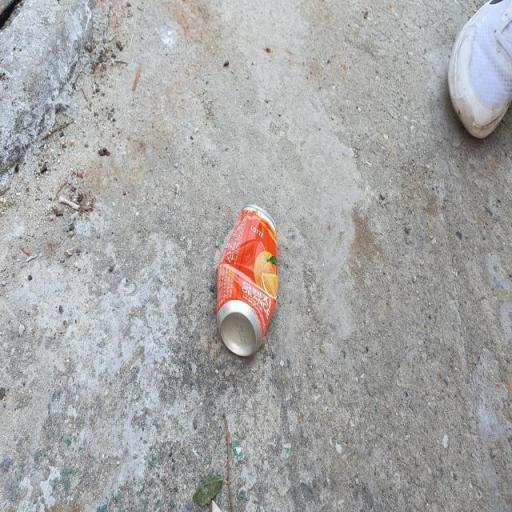metal: (203, 198, 291, 372)
